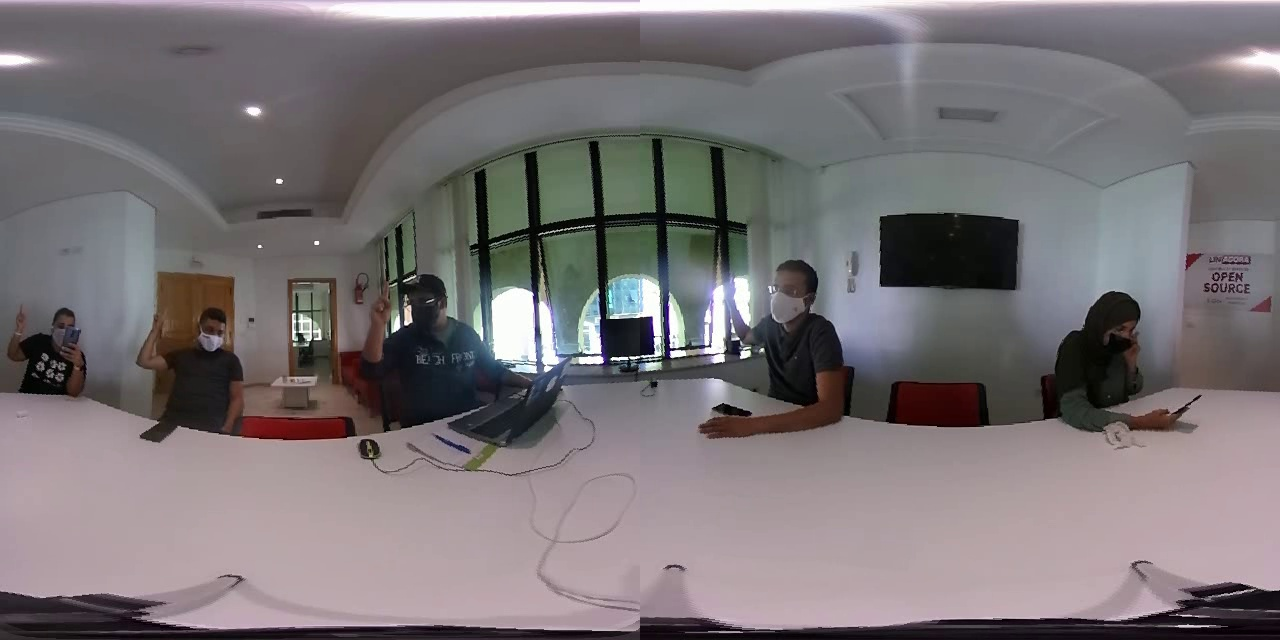person: (697, 245, 853, 432), (351, 262, 512, 433), (1044, 275, 1189, 451), (126, 294, 252, 439), (2, 291, 106, 408)
speaking: (356, 265, 402, 393), (713, 252, 752, 365), (130, 295, 170, 383), (4, 291, 31, 373)
